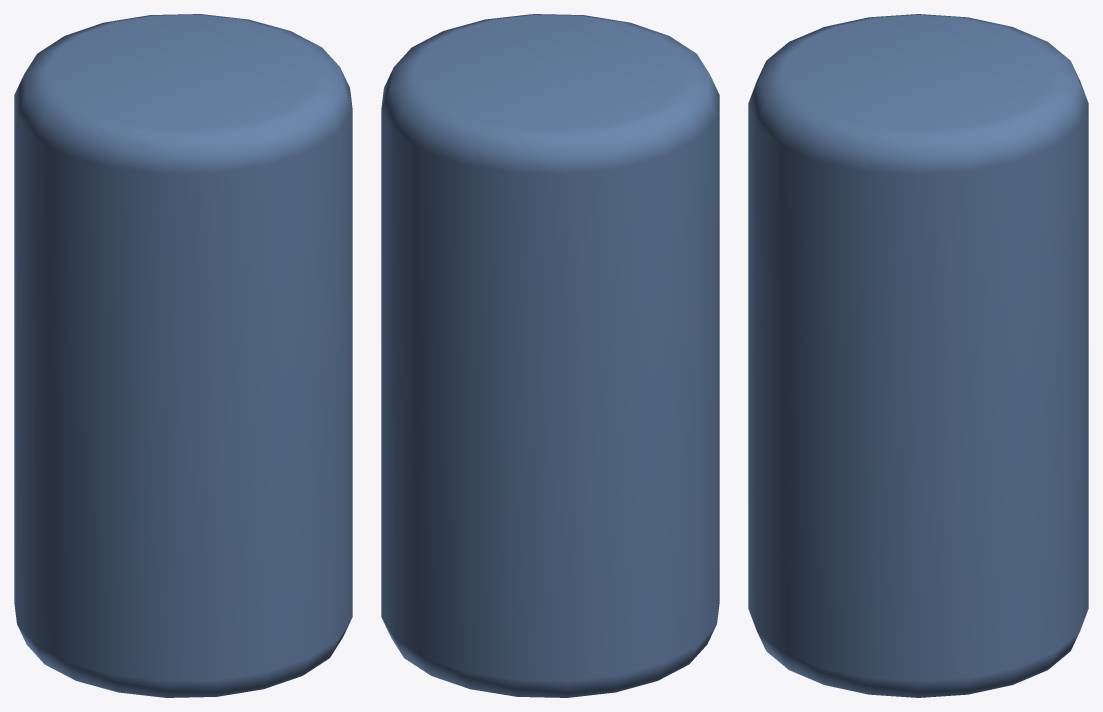
The model's file is 3dm_Bandage_01a.fbx.
The picture shows the model from 3 angles, left to right: view 1: azimuth 30°, elevation 25°; view 2: azimuth 150°, elevation 25°; view 3: azimuth 270°, elevation 25°; orthographic projection.
Parts seen in each view (by area): view 1: pCylinder1; view 2: pCylinder1; view 3: pCylinder1.
Boxes of the visible parts, left/top/right/bottom form: pCylinder1: left=14, top=14, right=352, bottom=697; pCylinder1: left=381, top=14, right=719, bottom=697; pCylinder1: left=748, top=14, right=1088, bottom=697.
Bounding box in the file's own units: 11.17 × 20.53 × 11.17.
